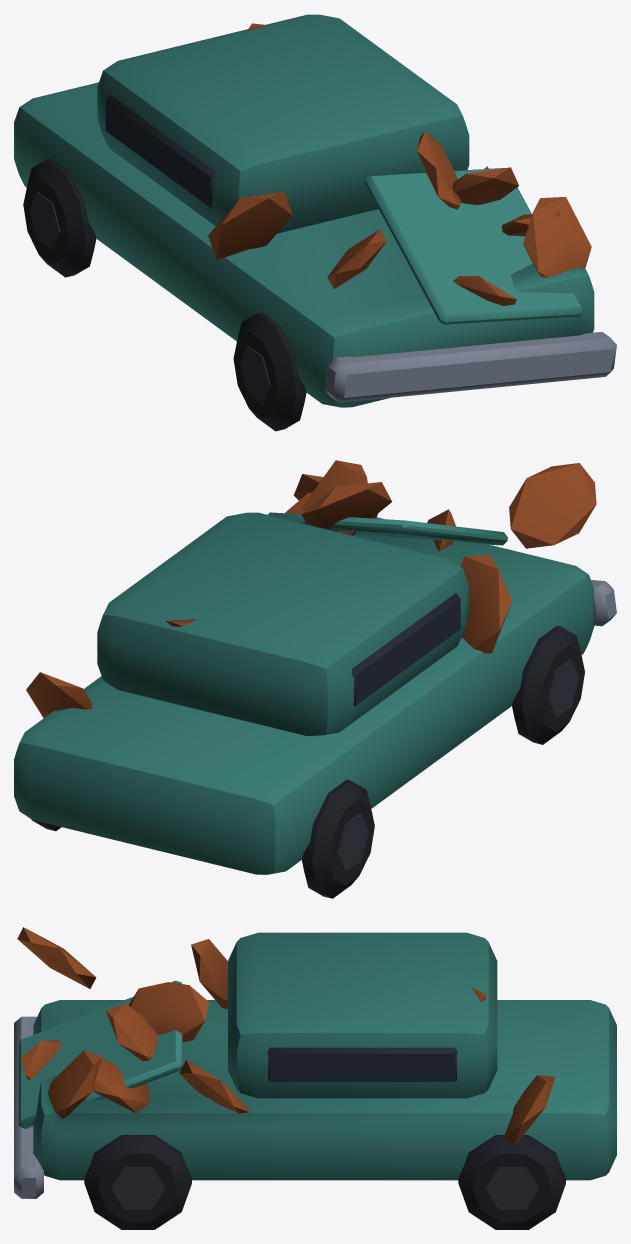
Rendered from sv_wreck.glb.
3 renders of one model, top to bottom at view 1: azimuth 30°, elevation 25°; view 2: azimuth 150°, elevation 25°; view 3: azimuth 270°, elevation 25°, orthographic. The views are drawn at different scales.
Parts seen in each view (by area): view 1: body; view 2: body; view 3: body.
Part boxes in pixels (<box>): body: <box>14,14,616,431</box>; body: <box>14,460,616,898</box>; body: <box>14,927,616,1229</box>.
Size of the model in its own units: 2.15 by 1.49 by 4.03.
